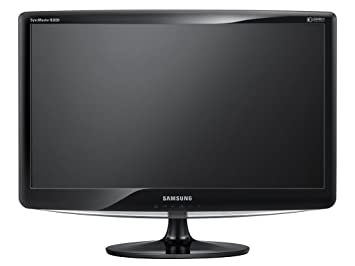samsung-monitor-b2030: (15, 9, 340, 256)
